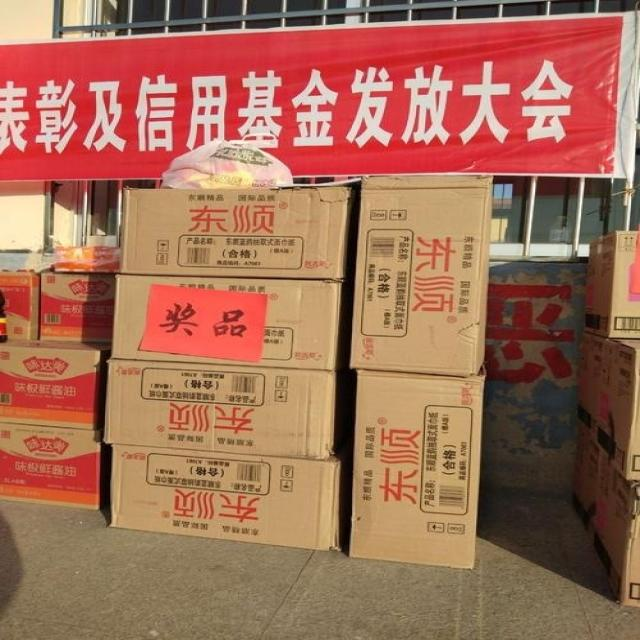box: (349, 177, 493, 377), (349, 369, 486, 568), (110, 444, 342, 553), (104, 359, 335, 461), (111, 275, 342, 370), (120, 186, 351, 279), (568, 436, 640, 606), (0, 339, 111, 430), (575, 329, 640, 481), (0, 422, 100, 510), (584, 231, 640, 339), (40, 273, 116, 343), (0, 272, 41, 341), (52, 247, 122, 273)
